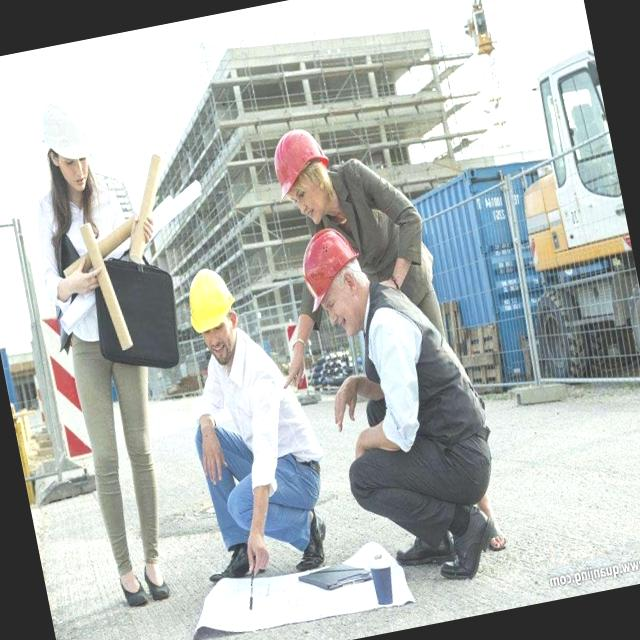helmet: (287, 215, 369, 316), (261, 113, 344, 212), (32, 94, 100, 180), (178, 258, 244, 340)
no-vest: (198, 330, 323, 522), (36, 180, 152, 369)
